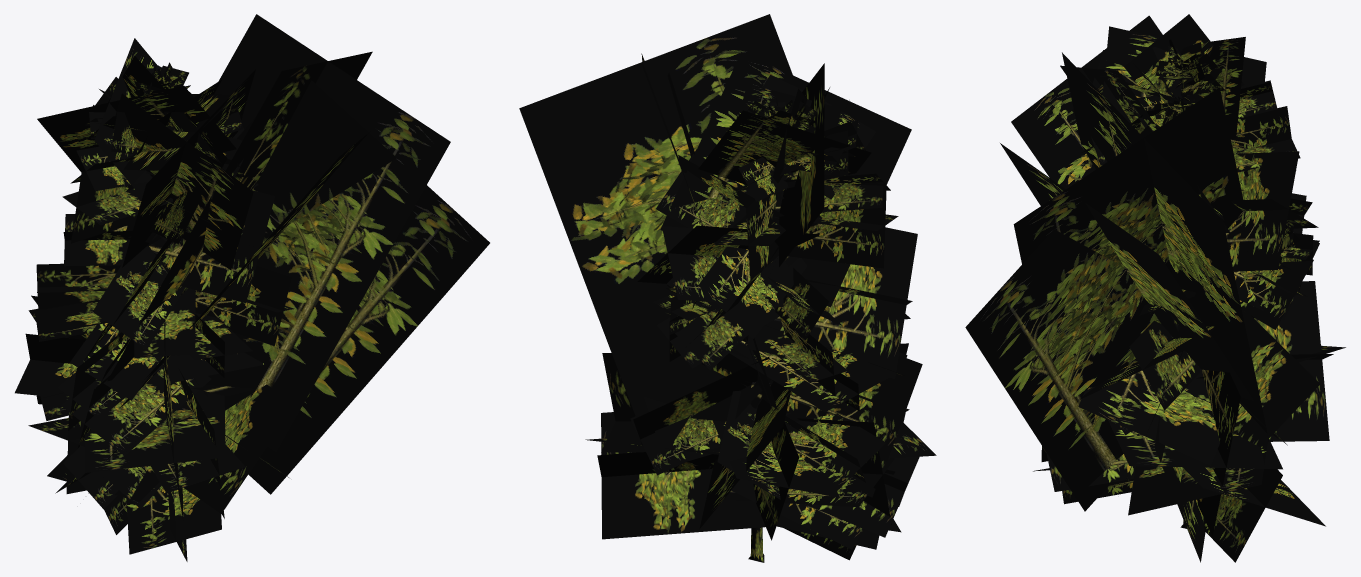
File: camellia_summer_fall_winter.glb
3 views of the same model, side by side, from view 1: azimuth 30°, elevation 25°; view 2: azimuth 150°, elevation 25°; view 3: azimuth 270°, elevation 25° (orthographic). The views are drawn at different scales.
Visible parts, largest first — view 1: 2_Leaves; view 2: 2_Leaves; view 3: 2_Leaves.
Boxes of the visible parts, x1=… form: 2_Leaves: x1=15, y1=14, x2=489, y2=561; 2_Leaves: x1=519, y1=14, x2=936, y2=560; 2_Leaves: x1=965, y1=14, x2=1345, y2=562.
Size of the model in its own units: 198 by 257 by 177.
1 material, 1 textured.
